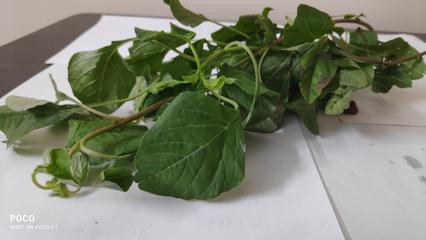spinach: (76, 26, 388, 177)
